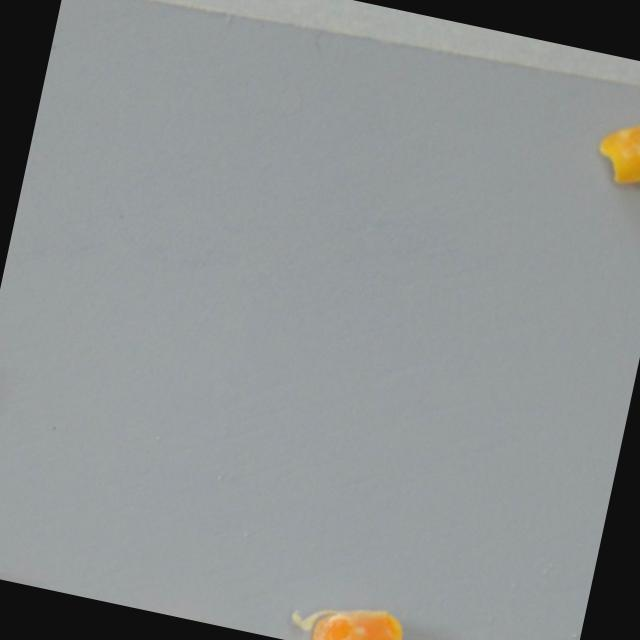pelicula: (285, 589, 415, 640), (591, 98, 640, 189)
